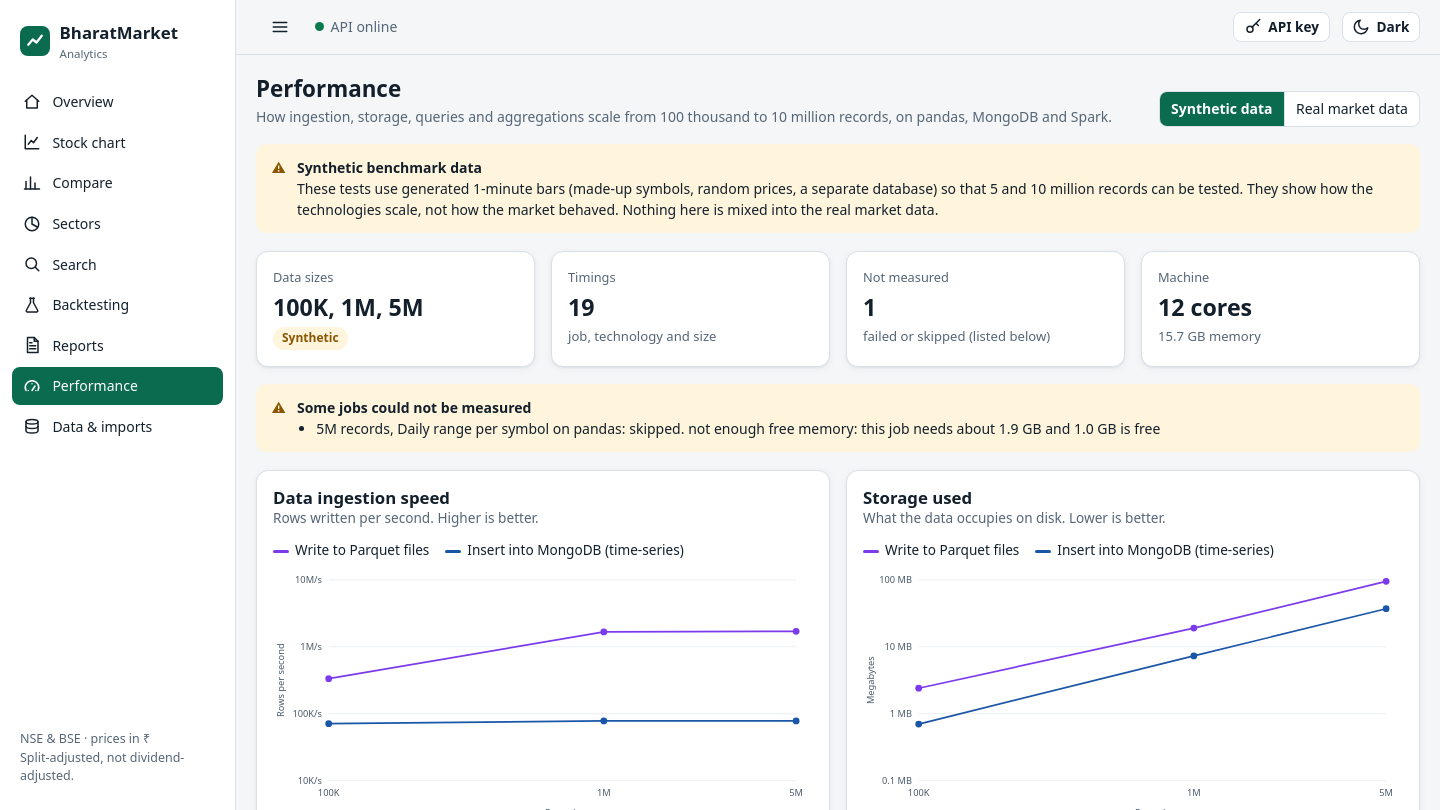
Test: Performance page › keeps real and synthetic data apart: the real tab shows only the real timings and says what is missing
The width and height of the screenshot is (1440, 810).
Expected: the heading "Performance" is shown, [256,73,401,104]
Click the button "Real market data".
click(1352, 109)  # box [1285,92,1419,126]
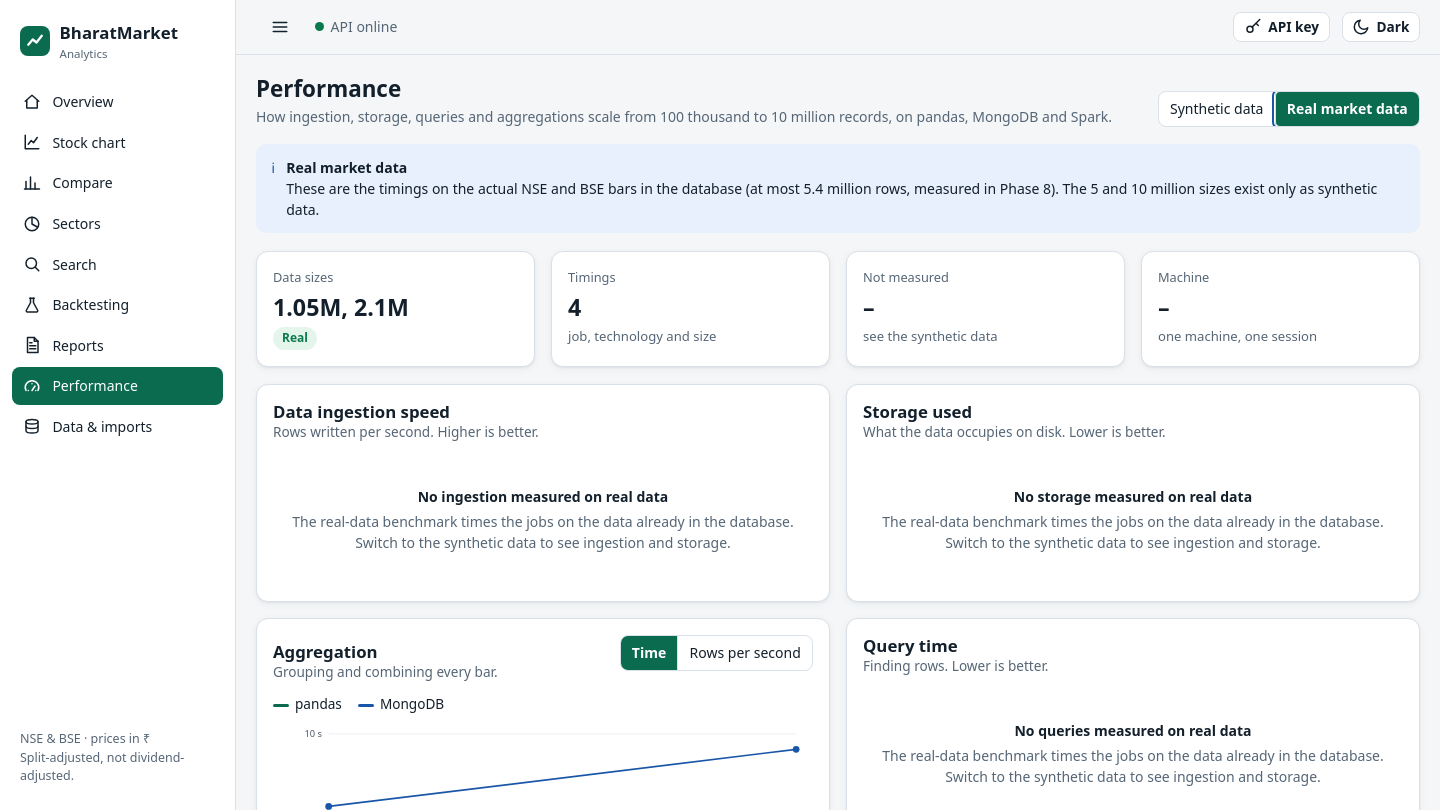
Expected: the text "Real market data" is shown, [286,158,407,177]
Expected: the text "Synthetic benchmark data" is gone
Expected: the text "No ingestion measured on real data" is shown, [418,487,668,506]
